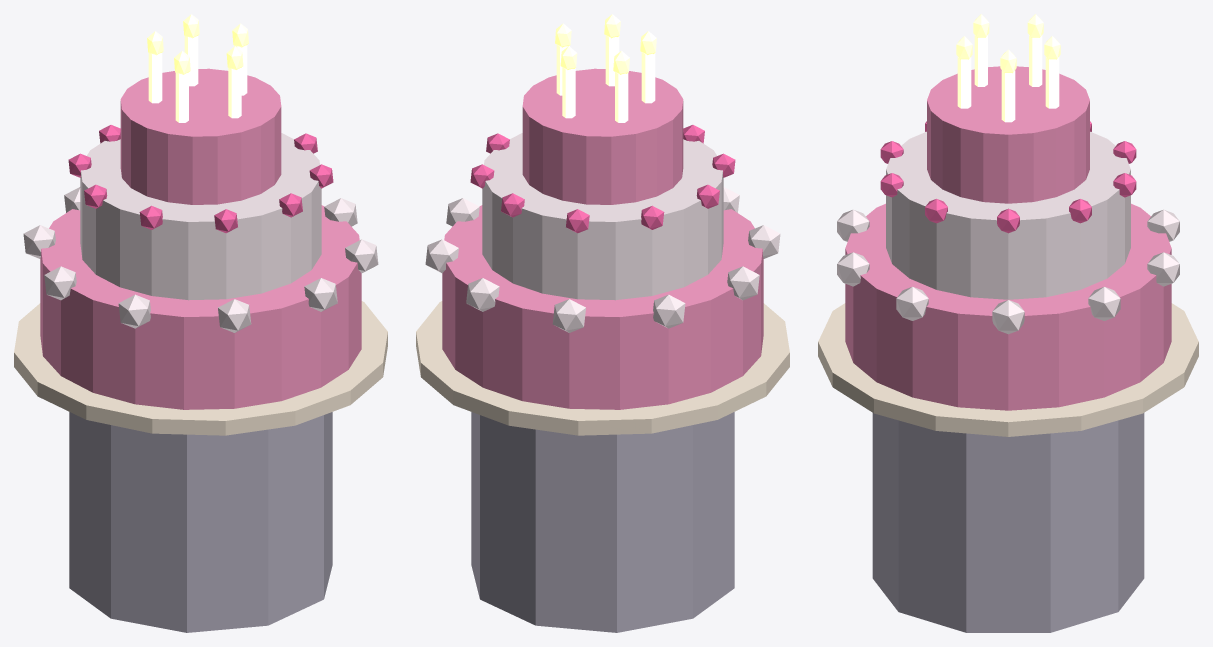
Rendered from cake.glb.
3 views of the same model, side by side, from view 1: azimuth 30°, elevation 25°; view 2: azimuth 150°, elevation 25°; view 3: azimuth 270°, elevation 25° (orthographic).
Parts seen in each view (by area): view 1: cake; view 2: cake; view 3: cake.
Boxes of the visible parts, left/top/right/bottom form: cake: left=14, top=14, right=387, bottom=632; cake: left=416, top=14, right=789, bottom=632; cake: left=818, top=14, right=1198, bottom=632.
Size of the model in its own units: 1.4 by 2.23 by 1.4.
